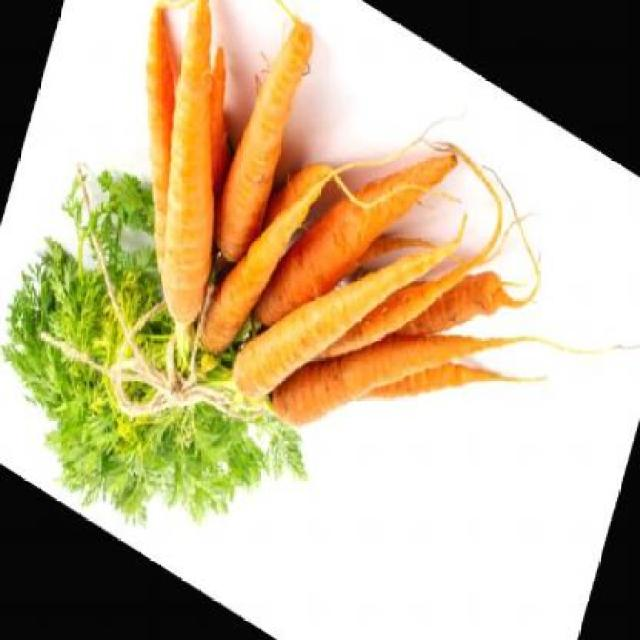carrot: (225, 141, 453, 485), (267, 218, 508, 530), (252, 70, 458, 404), (114, 0, 283, 331), (84, 0, 237, 295), (304, 204, 458, 430), (193, 126, 324, 389), (202, 3, 316, 274), (352, 300, 499, 478)
